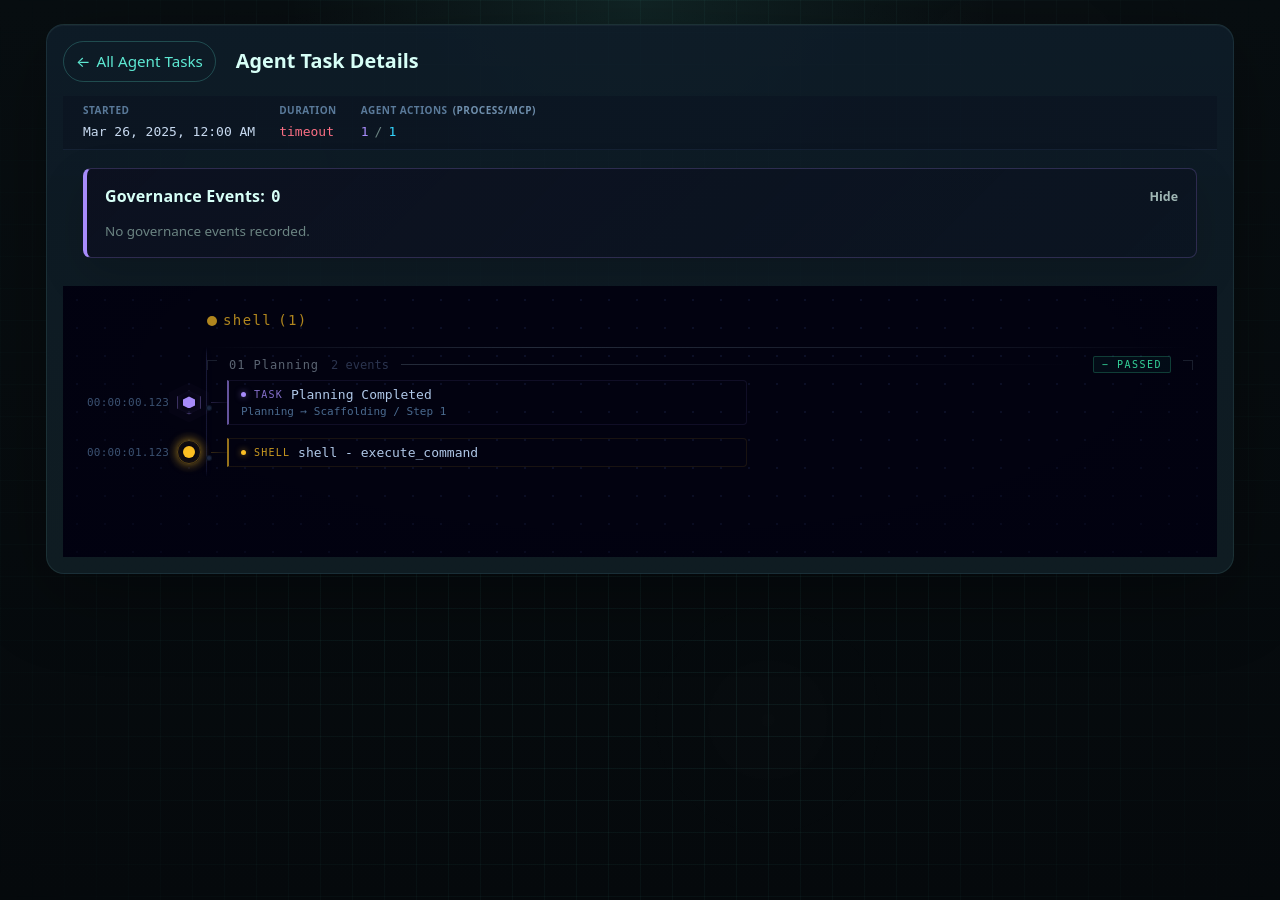
Test case: task run detail › normalizes inspector status labels to success
Expected: the heading "Agent Task Details" is shown, [236,50,419,72]
Click the button with aria-label "show event details for planning completed": (640, 402) [87,378,1193,428]
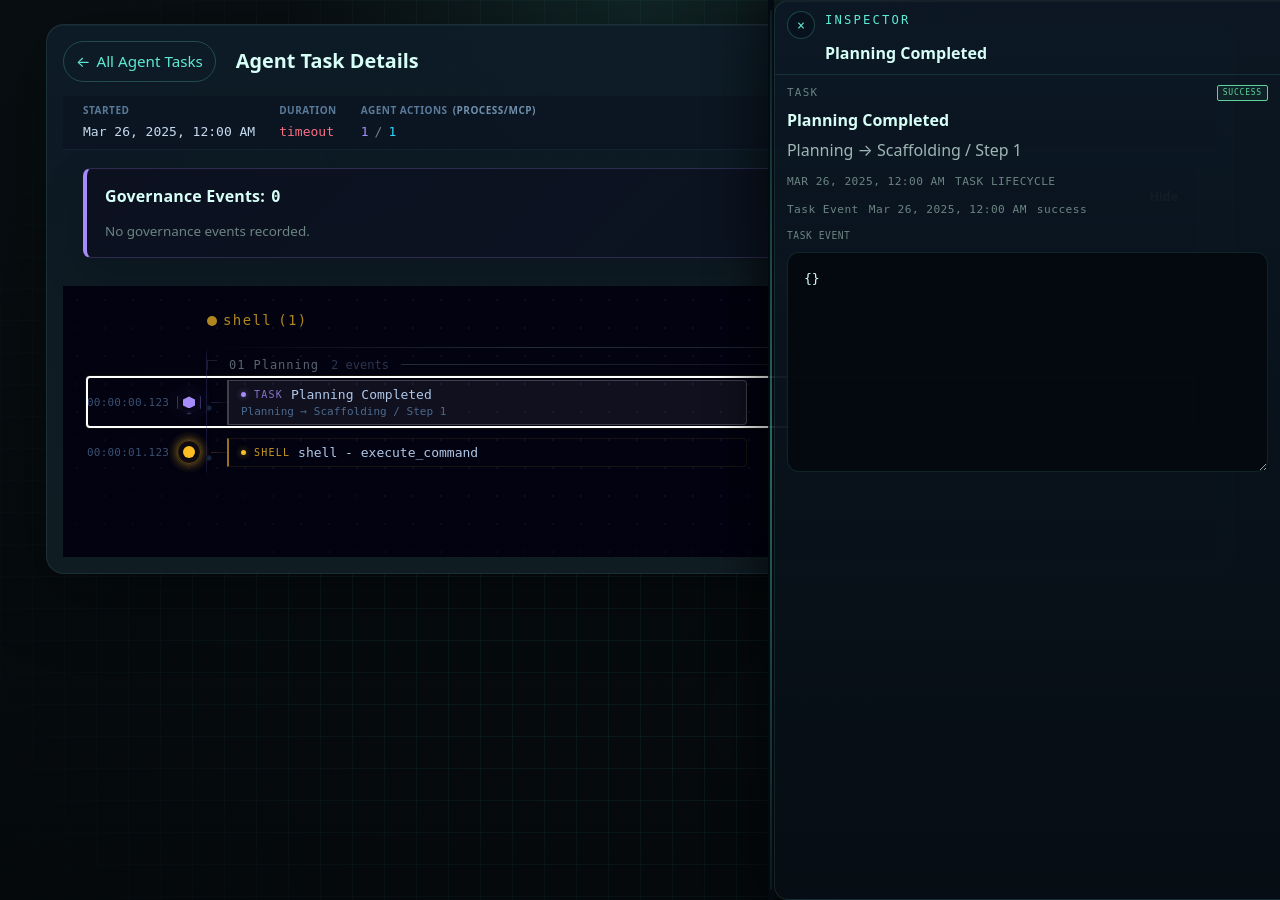
Now the 1st text "success" is shown, box [1217,85,1268,101]
